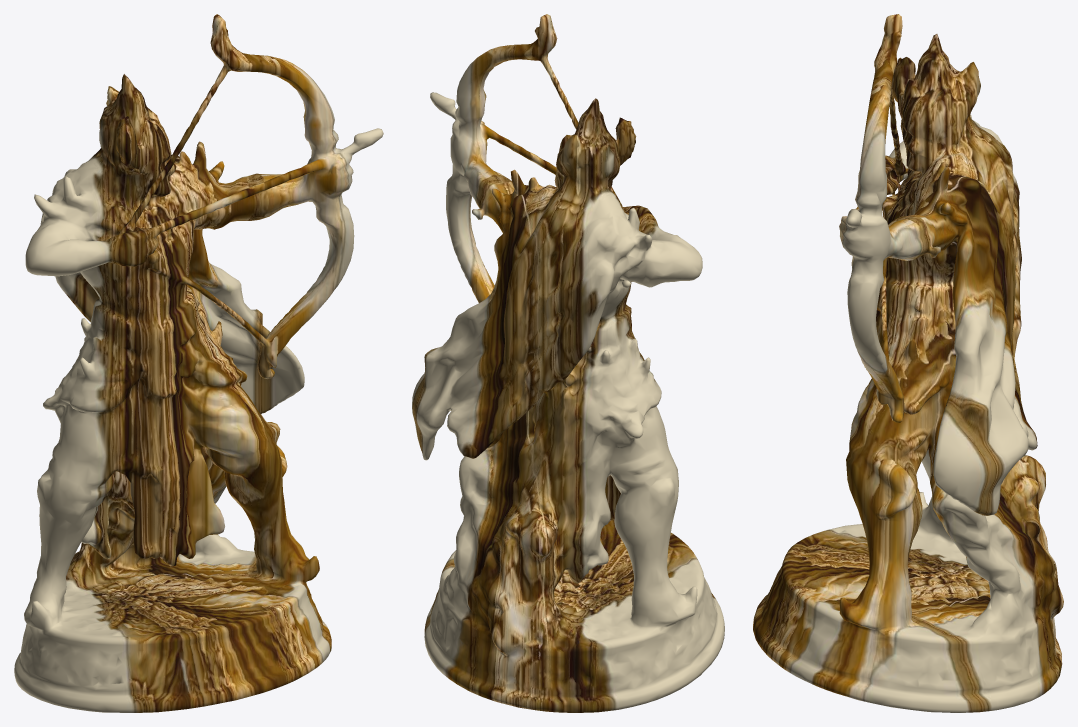
File: mantri.glb
3 renders of one model, left to right at view 1: azimuth 30°, elevation 25°; view 2: azimuth 150°, elevation 25°; view 3: azimuth 270°, elevation 25°, orthographic. The views are drawn at different scales.
Parts seen in each view (by area): view 1: geometry_0; view 2: geometry_0; view 3: geometry_0.
Boxes of the visible parts, bbox=[...] form: geometry_0: bbox=[14, 14, 383, 712]; geometry_0: bbox=[412, 14, 724, 712]; geometry_0: bbox=[753, 14, 1063, 712].
Bounding box in the file's own units: 1.03 × 2.03 × 0.8522.
Materials: 1 (1 with a texture image).
